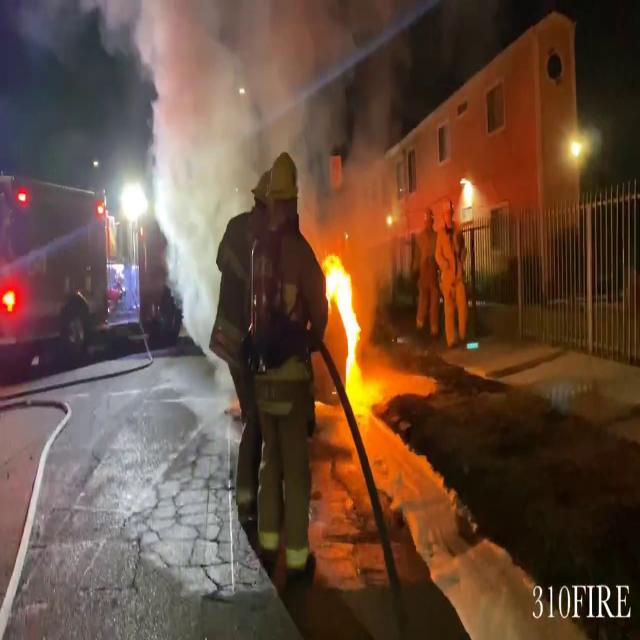Fire: (323, 250, 367, 410)
Smoke: (116, 0, 406, 259)
